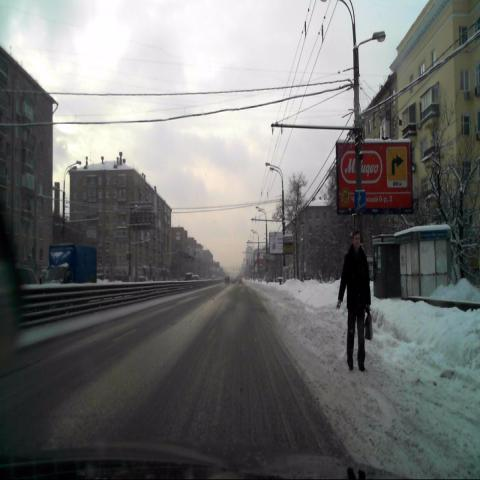6_6: (354, 190, 366, 209)
